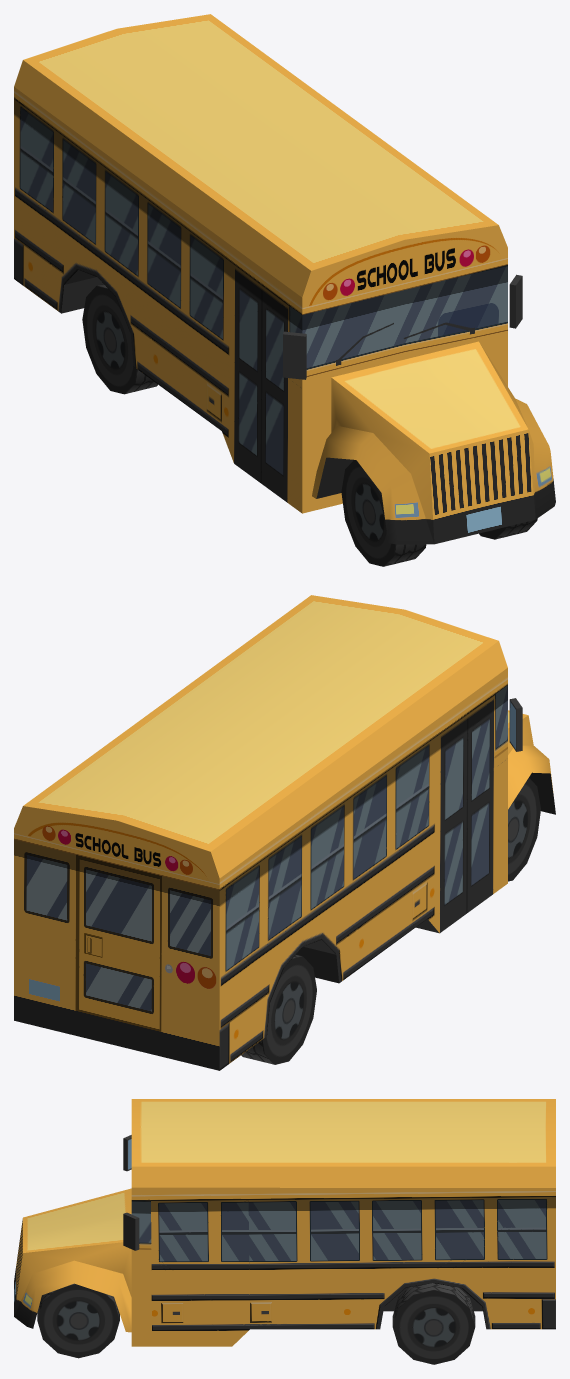
File: city_school_bus.fbx
3 renders of one model, top to bottom at view 1: azimuth 30°, elevation 25°; view 2: azimuth 150°, elevation 25°; view 3: azimuth 270°, elevation 25°, orthographic. The views are drawn at different scales.
Parts seen in each view (by area): view 1: polySurface85; view 2: polySurface85; view 3: polySurface85.
Boxes of the visible parts, <box> form: polySurface85: <box>14,14,555,566</box>; polySurface85: <box>14,595,555,1070</box>; polySurface85: <box>14,1099,555,1364</box>.
Bounding box in the file's own units: 2.11 × 2.35 × 5.61.
